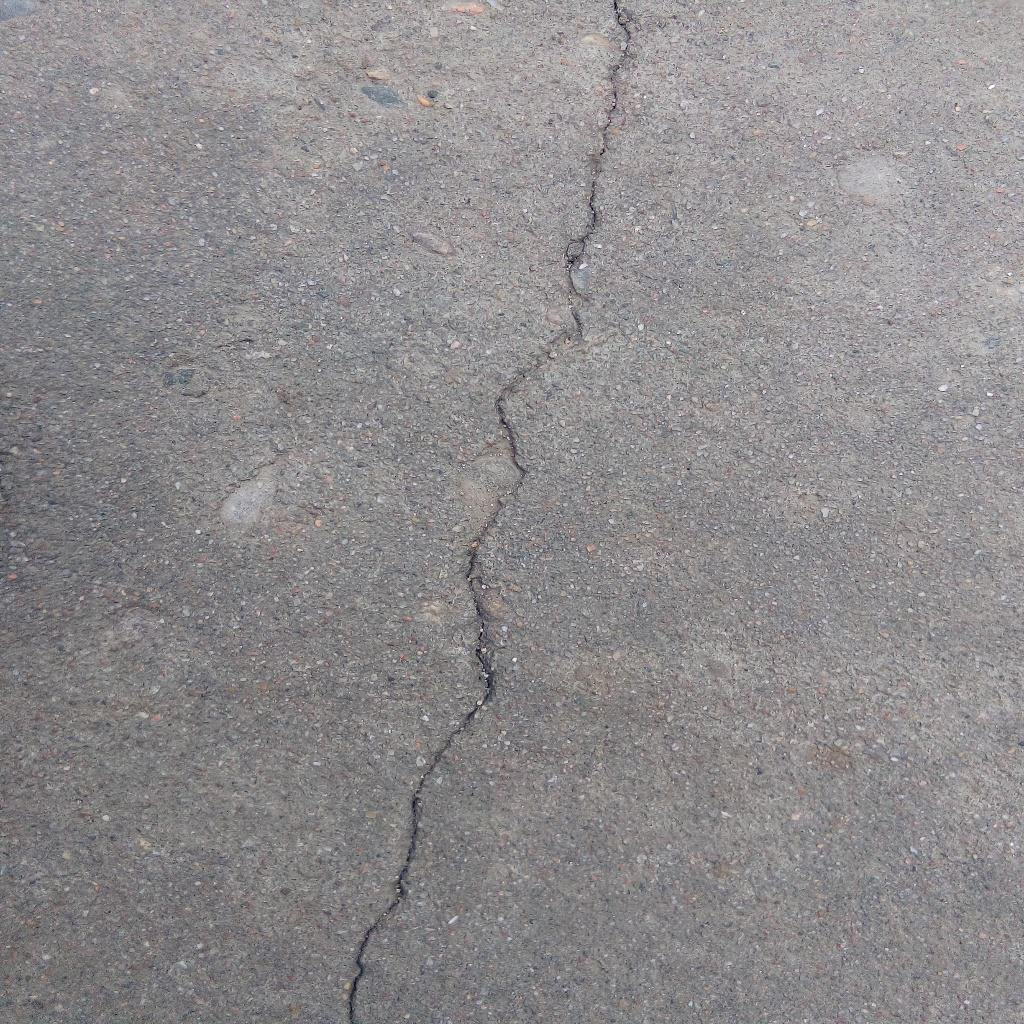Crack: (346, 1, 633, 1024)
